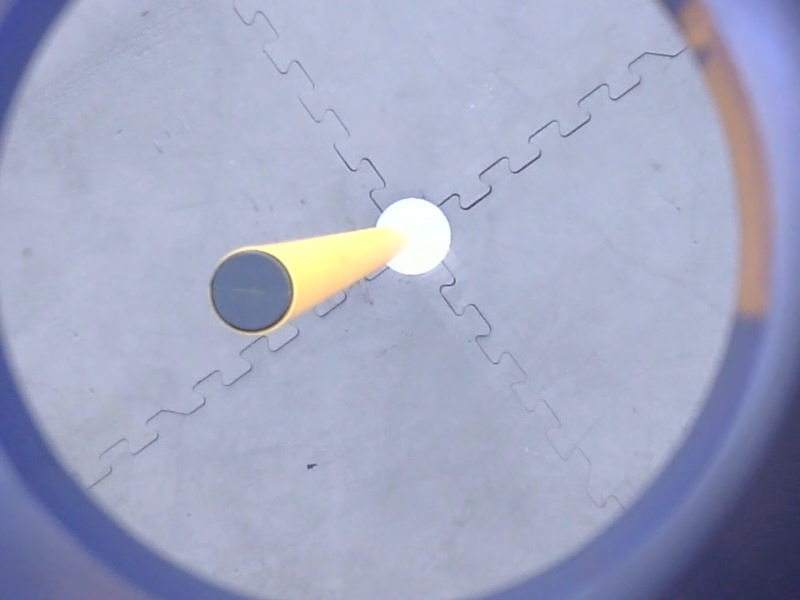tip: (204, 240, 302, 342)
